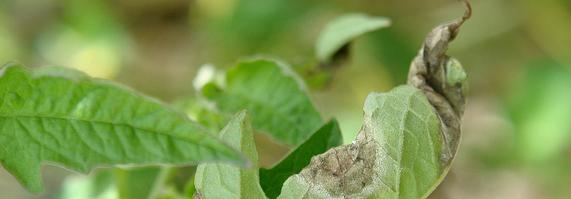Tomato leaf late blight: (57, 7, 498, 199), (0, 22, 291, 199)
